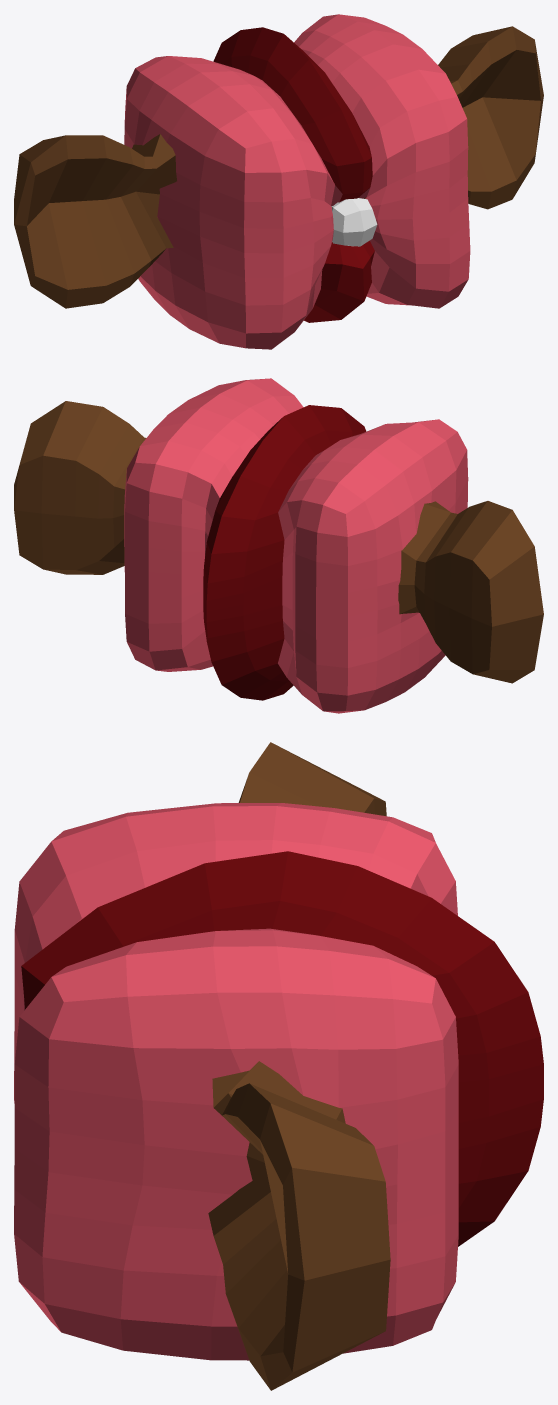
The model's file is bat.fbx.
3 renders of one model, top to bottom at view 1: azimuth 30°, elevation 25°; view 2: azimuth 150°, elevation 25°; view 3: azimuth 270°, elevation 25°, orthographic. The views are drawn at different scales.
Visible parts, largest first — view 1: Cube, Cube.002, Cube.003, Cube.001; view 2: Cube, Cube.002, Cube.003; view 3: Cube, Cube.003, Cube.002.
Part boxes in pixels (x1=…): Cube: x1=124, y1=14, x2=470, y2=349; Cube.002: x1=14, y1=134, x2=176, y2=308; Cube.003: x1=438, y1=26, x2=543, y2=209; Cube.001: x1=331, y1=198, x2=377, y2=246; Cube: x1=124, y1=378, x2=468, y2=713; Cube.002: x1=398, y1=501, x2=543, y2=683; Cube.003: x1=14, y1=401, x2=146, y2=574; Cube: x1=14, y1=803, x2=543, y2=1360; Cube.003: x1=208, y1=1061, x2=390, y2=1390; Cube.002: x1=238, y1=742, x2=386, y2=816.
Bounding box in the file's own units: 489 × 245 × 256.
